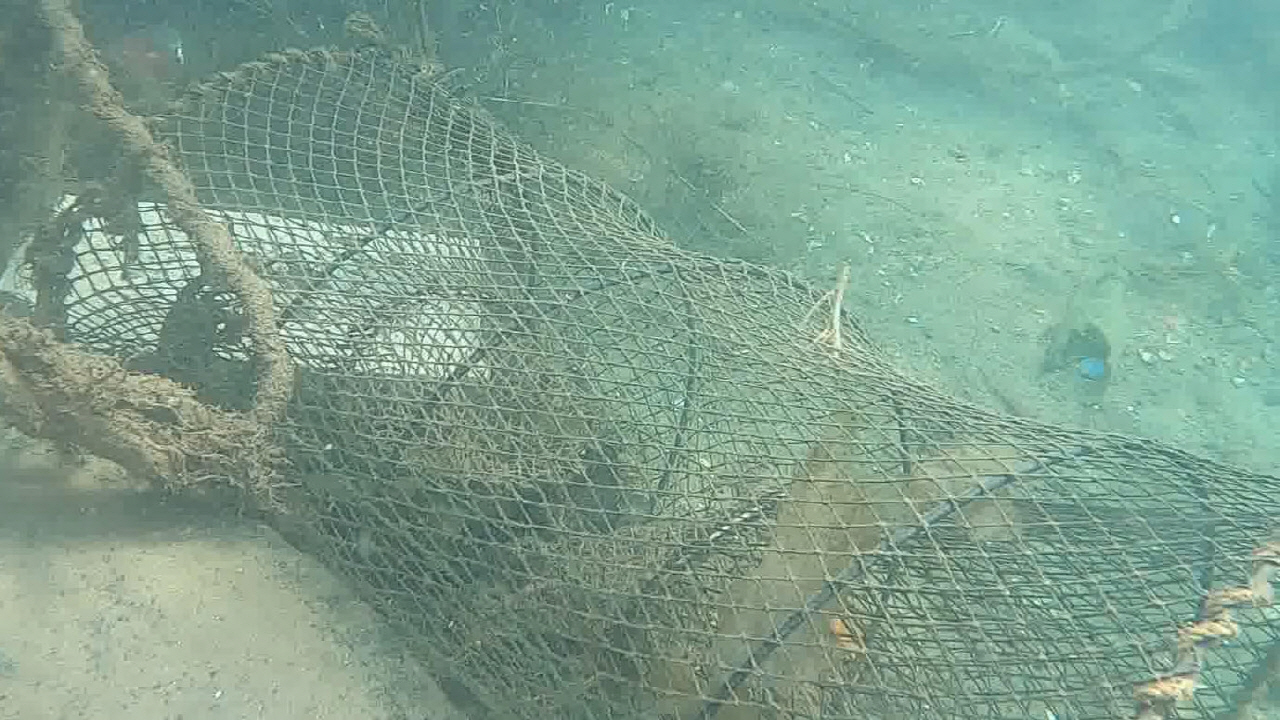spring fish trap: (34, 39, 1280, 720)
